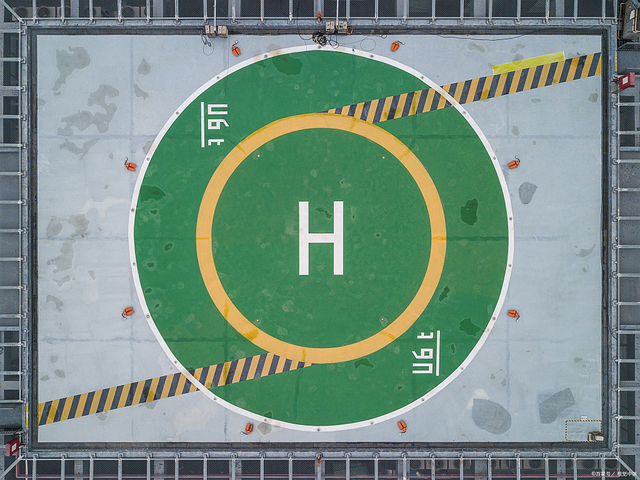H: (300, 200, 344, 275)
